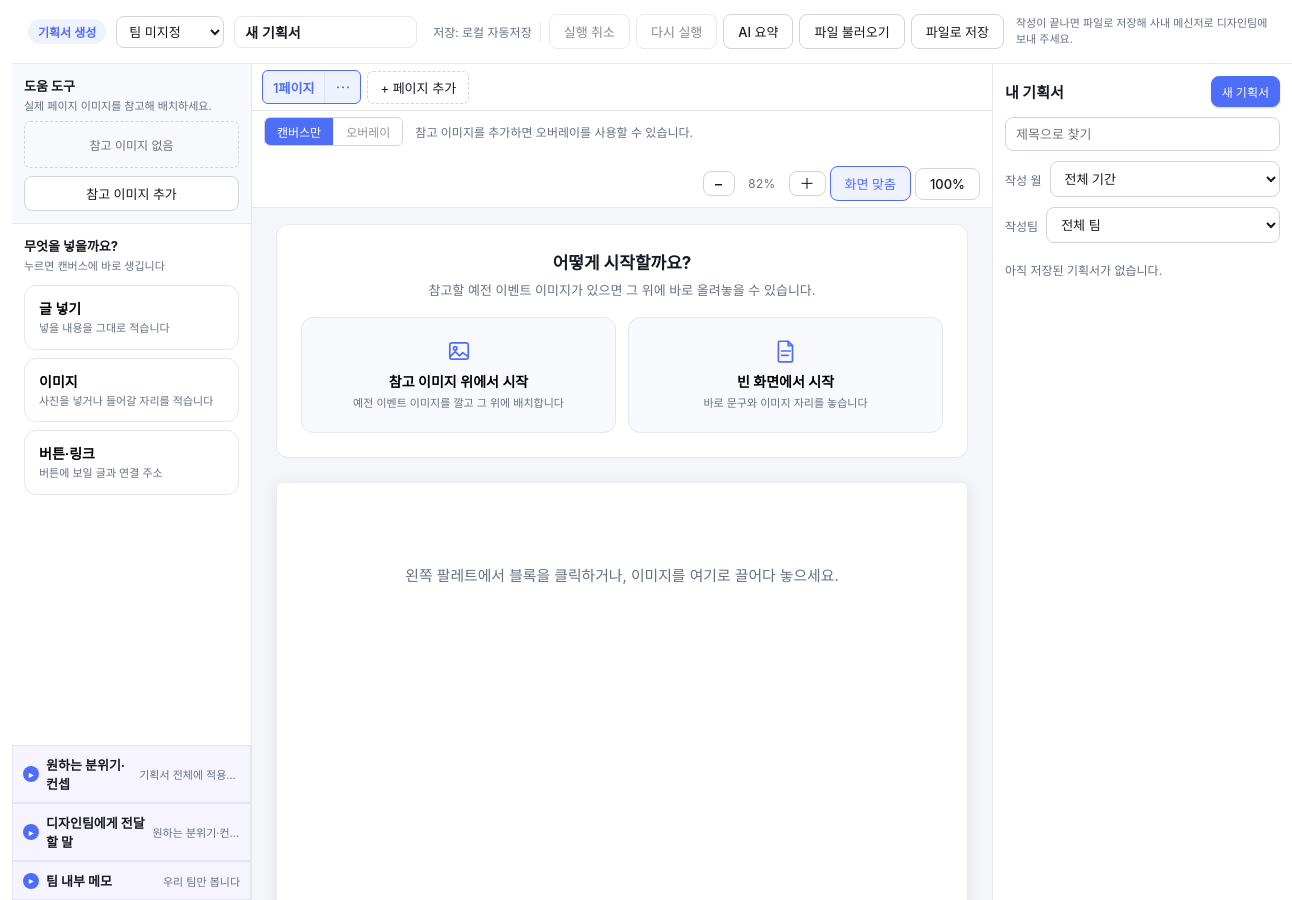
Test case: 손검수 1 · 안내문과 블록 맞춤 › keeps the placeholder out of the saved data and out of the type sizing
This screenshot has width=1292, height=900.
Click the button "글 넣기 넣을 내용을 그대로 적습니다". click: (132, 317)
box: [24, 285, 239, 350]
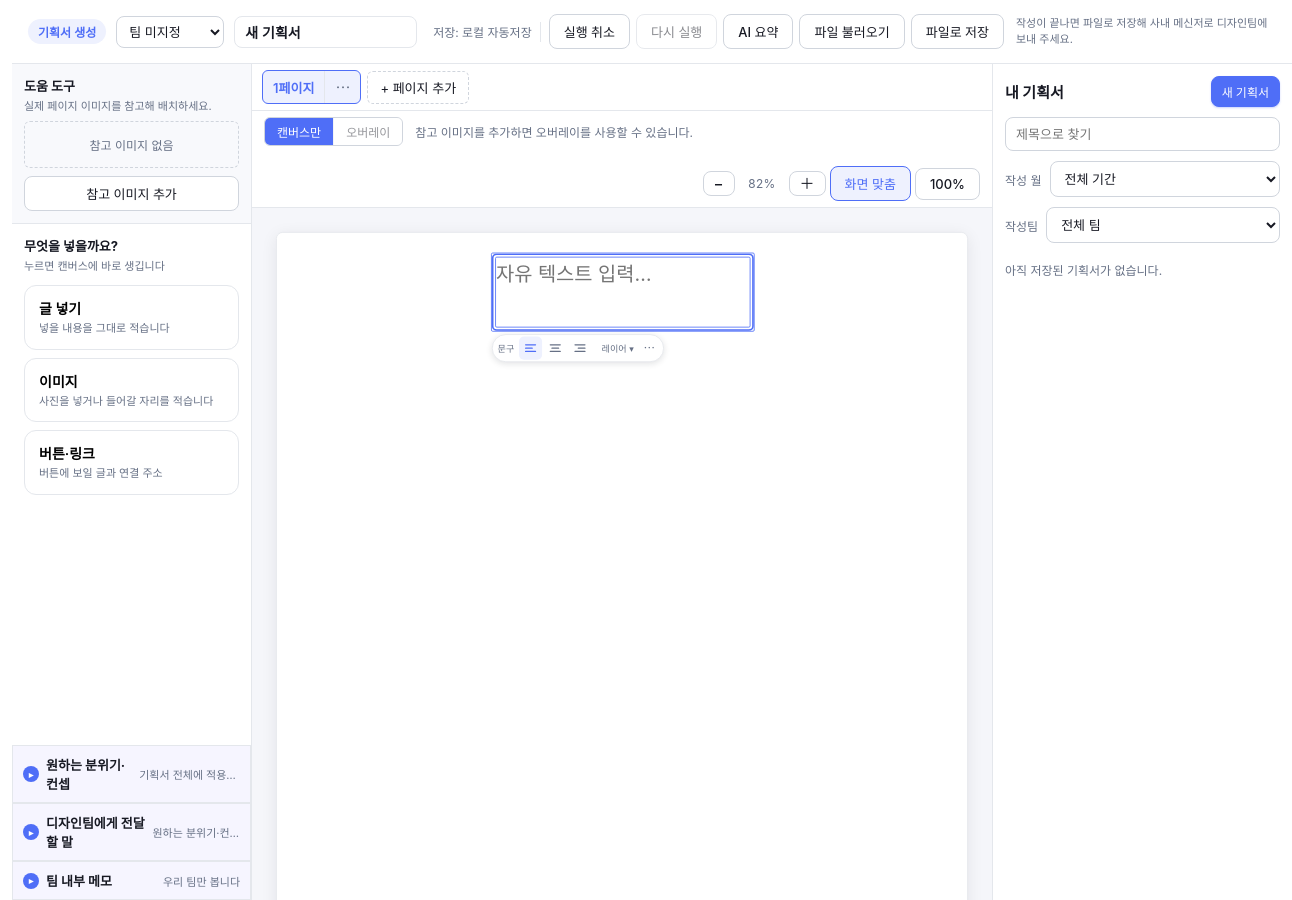
Press Escape
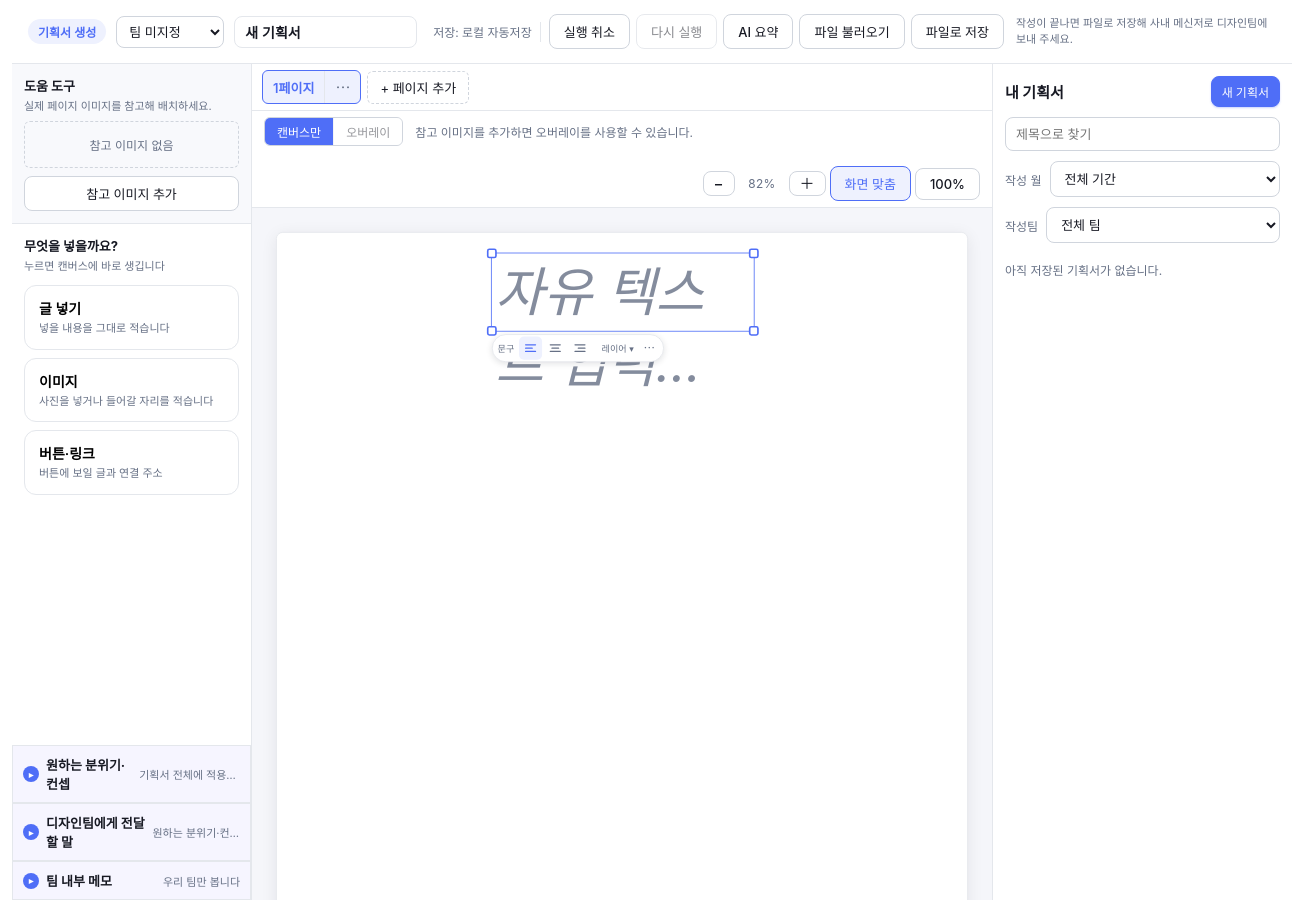
Now the button with class "block-card" shows "입력", box [491, 253, 755, 332]
